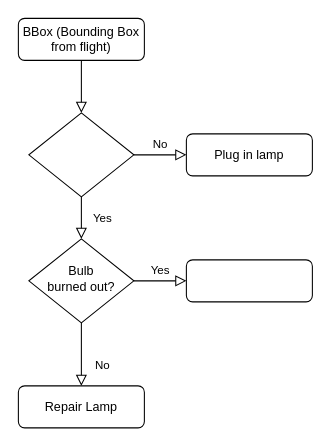
Image size: 331x446. Some labels were removed from this diagram. Each missing label, with the centre of its shape:
"Lamp plugged in?" goes at (x=81, y=154).
"Replace Bulb" goes at (x=248, y=280).
